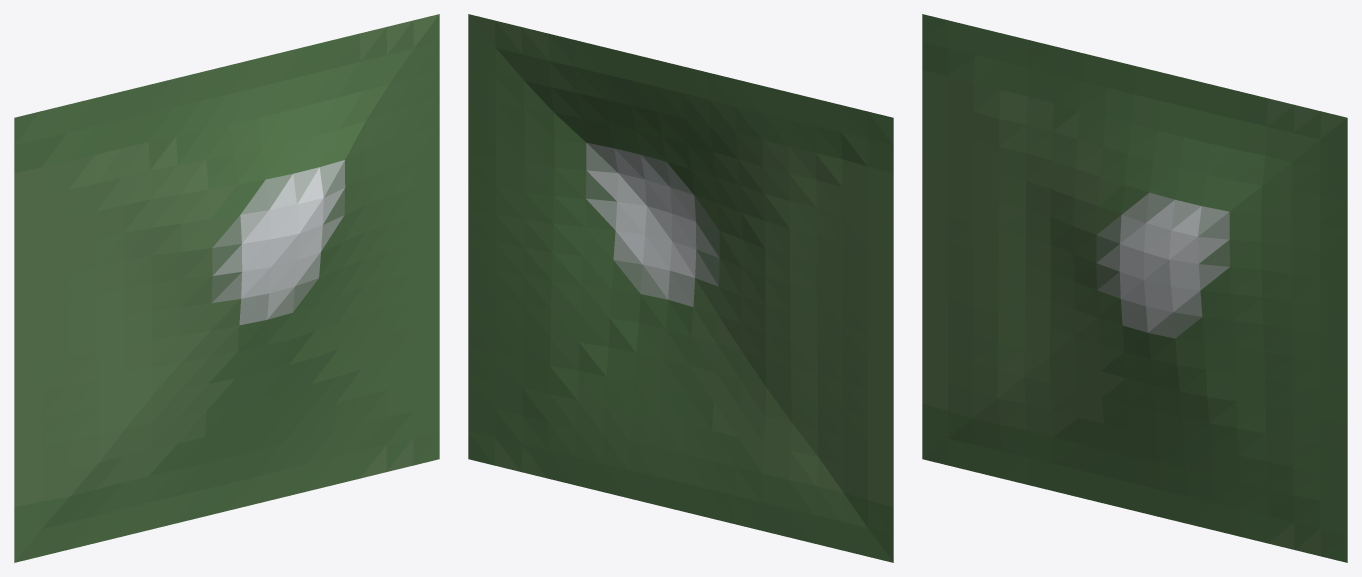
File: shape_083_SVN_Terrain_3.glb
3 views of the same model, side by side, from view 1: azimuth 30°, elevation 25°; view 2: azimuth 150°, elevation 25°; view 3: azimuth 330°, elevation 25° (orthographic).
Parts seen in each view (by area): view 1: SVN terrain 3; view 2: SVN terrain 3; view 3: SVN terrain 3.
Part boxes in pixels (left/top/right/bottom): SVN terrain 3: left=14, top=14, right=439, bottom=562; SVN terrain 3: left=468, top=14, right=893, bottom=562; SVN terrain 3: left=922, top=14, right=1347, bottom=562.
Bounding box in the file's own units: 4096 × 4096 × 318.
